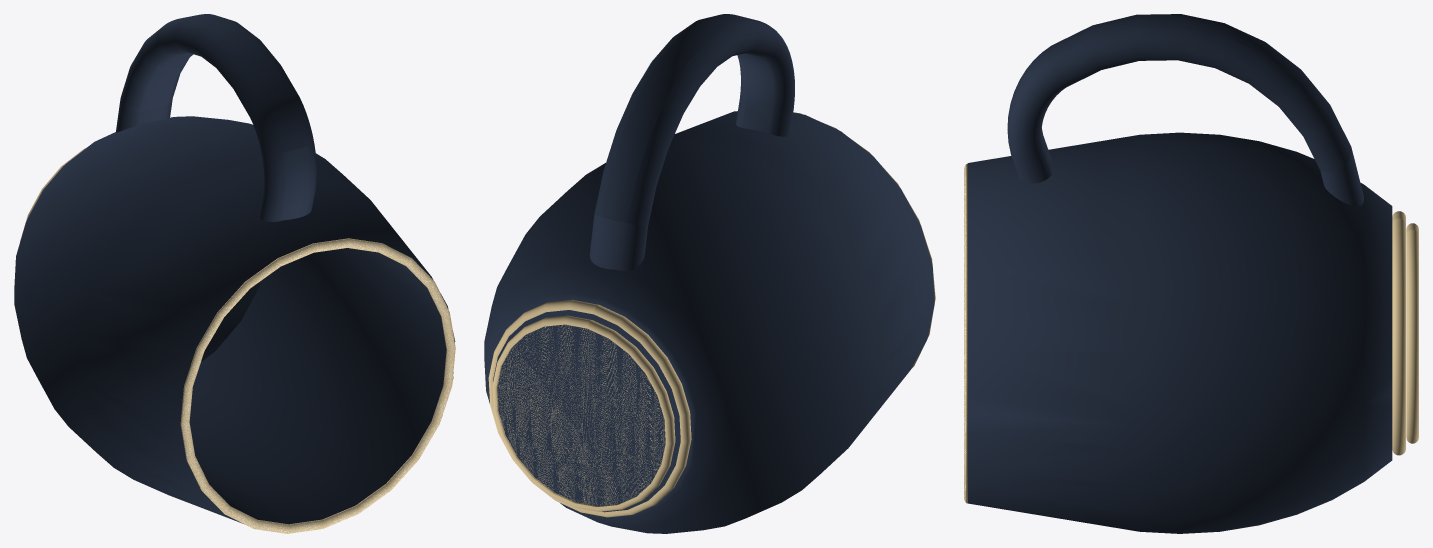
File: model_align.obj
3 views of the same model, side by side, from view 1: azimuth 30°, elevation 25°; view 2: azimuth 150°, elevation 25°; view 3: azimuth 270°, elevation 25° (orthographic). The views are drawn at different scales.
Parts seen in each view (by area): view 1: mesh3_mesh3-geometry, mesh4_mesh4-geometry, mesh5_mesh5-geometry; view 2: mesh3_mesh3-geometry, mesh2_mesh2-geometry, mesh4_mesh4-geometry, mesh1_mesh1-geometry; view 3: mesh3_mesh3-geometry, mesh4_mesh4-geometry, mesh1_mesh1-geometry, mesh2_mesh2-geometry, mesh5_mesh5-geometry.
Boxes of the visible parts, box(x1,y1,x2,y2) form: mesh3_mesh3-geometry: box(14, 116, 455, 524); mesh4_mesh4-geometry: box(115, 14, 316, 221); mesh5_mesh5-geometry: box(180, 238, 455, 533); mesh3_mesh3-geometry: box(484, 111, 934, 533); mesh2_mesh2-geometry: box(492, 315, 675, 511); mesh4_mesh4-geometry: box(589, 14, 794, 270); mesh1_mesh1-geometry: box(488, 300, 691, 517); mesh3_mesh3-geometry: box(967, 132, 1392, 533); mesh4_mesh4-geometry: box(1007, 14, 1363, 206); mesh1_mesh1-geometry: box(1392, 211, 1405, 455); mesh2_mesh2-geometry: box(1406, 223, 1418, 443); mesh5_mesh5-geometry: box(964, 164, 967, 503).
Size of the model in its own units: 0.0767 by 0.1045 by 0.0868.
